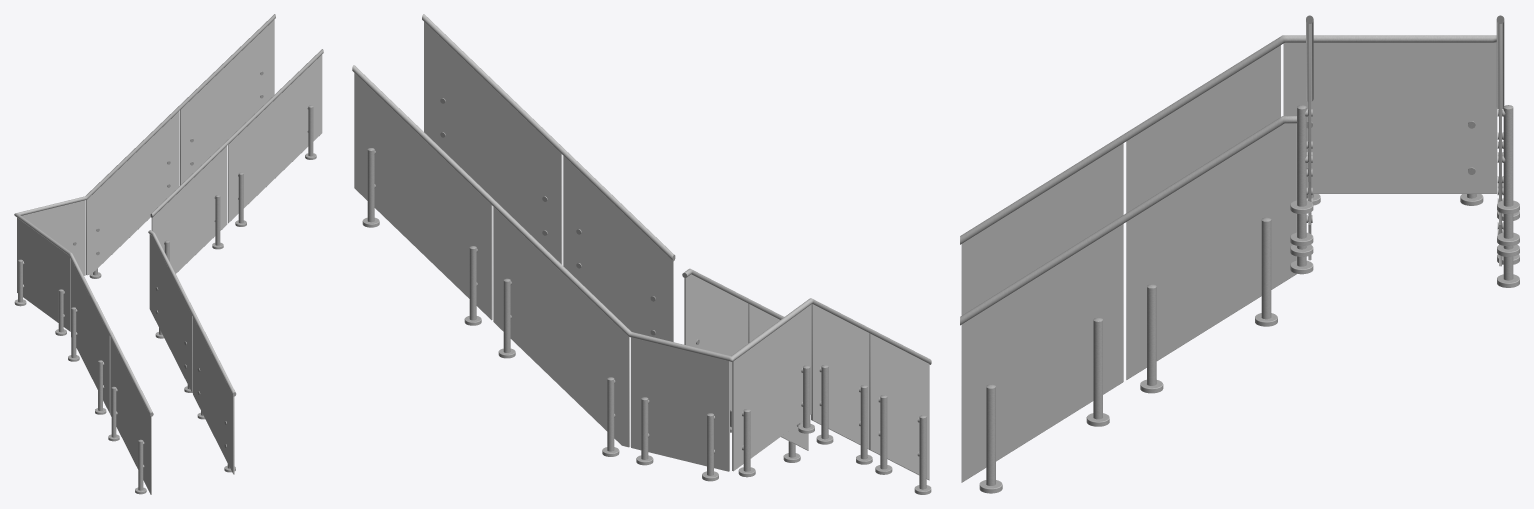
The model's file is L-Shaped_Railing_Lo-Post_Round.gltf.
3 renders of one model, left to right at view 1: azimuth 30°, elevation 25°; view 2: azimuth 150°, elevation 25°; view 3: azimuth 270°, elevation 25°, orthographic. The views are drawn at different scales.
Parts seen in each view (by area): view 1: Casework 1 Casework 1 [8738332], Infill_Glass_Raked & Horizontal Generic [8200579], Infill_Glass_Raked & Horizontal Generic [8736296], Infill_Glass_Raked & Horizontal Generic [8199751], Infill_Glass_Raked & Horizontal Generic [8738822], Infill_Glass_Transition Generic [8202170], Infill_Glass_Raked & Horizontal Generic [8202939], Infill_Glass_Raked & Horizontal Generic [8735940], Infill_Glass_Raked & Horizontal Generic [8739593], Infill_Glass_Raked & Horizontal Generic [8737682], Object, Generic Models 11 Generic Models 11 [8762451]005 (+2 smaller); view 2: Infill_Glass_Raked & Horizontal Generic [8736296], Infill_Glass_Raked & Horizontal Generic [8200579], Casework 1 Casework 1 [8738332], Infill_Glass_Raked & Horizontal Generic [8199751], Infill_Glass_Raked & Horizontal Generic [8737682], Infill_Glass_Raked & Horizontal Generic [8738822], Infill_Glass_Raked & Horizontal Generic [8735940], Infill_Glass_Raked & Horizontal Generic [8739593], Infill_Glass_Transition Generic [8202170], Object, Generic Models 11 Generic Models 11 [8762451]005, Infill_Glass_Raked & Horizontal Generic [8202939] (+1 smaller); view 3: Infill_Glass_Raked & Horizontal Generic [8738822], Infill_Glass_Transition Generic [8202170], Infill_Glass_Raked & Horizontal Generic [8202939], Infill_Glass_Raked & Horizontal Generic [8735940], Infill_Glass_Raked & Horizontal Generic [8739593], LS103 & LS116 - Circum Round Post Material LS Material [9209 (×6), Generic Models 1 Generic Models 1 [8568048], Generic Models 10 Generic Models 1 [8735975], Object, Infill_Glass_Raked & Horizontal Generic [8200579].
Part boxes in pixels (x1,y1,x2,y2): Casework 1 Casework 1 [8738332]: [86, 111, 179, 275]; Infill_Glass_Raked & Horizontal Generic [8200579]: [228, 54, 322, 223]; Infill_Glass_Raked & Horizontal Generic [8736296]: [180, 19, 274, 185]; Infill_Glass_Raked & Horizontal Generic [8199751]: [151, 146, 227, 273]; Infill_Glass_Raked & Horizontal Generic [8738822]: [17, 218, 70, 331]; Infill_Glass_Transition Generic [8202170]: [149, 234, 192, 393]; Infill_Glass_Raked & Horizontal Generic [8202939]: [193, 317, 234, 474]; Infill_Glass_Raked & Horizontal Generic [8735940]: [110, 337, 151, 494]; Infill_Glass_Raked & Horizontal Generic [8739593]: [71, 259, 110, 413]; Infill_Glass_Raked & Horizontal Generic [8737682]: [21, 200, 85, 275]; Object: [14, 14, 275, 254]; Generic Models 11 Generic Models 11 [8762451]005: [150, 49, 323, 217]; Infill_Glass_Raked & Horizontal Generic [8736296]: [354, 73, 492, 320]; Infill_Glass_Raked & Horizontal Generic [8200579]: [424, 22, 562, 264]; Casework 1 Casework 1 [8738332]: [493, 207, 630, 447]; Infill_Glass_Raked & Horizontal Generic [8199751]: [563, 156, 673, 341]; Infill_Glass_Raked & Horizontal Generic [8737682]: [631, 337, 729, 471]; Infill_Glass_Raked & Horizontal Generic [8738822]: [732, 304, 811, 471]; Infill_Glass_Raked & Horizontal Generic [8735940]: [869, 333, 929, 480]; Infill_Glass_Raked & Horizontal Generic [8739593]: [811, 304, 869, 449]; Infill_Glass_Transition Generic [8202170]: [684, 274, 748, 411]; Object: [352, 65, 810, 361]; Generic Models 11 Generic Models 11 [8762451]005: [422, 14, 675, 261]; Infill_Glass_Raked & Horizontal Generic [8202939]: [748, 303, 808, 450]; Infill_Glass_Raked & Horizontal Generic [8738822]: [1283, 42, 1497, 193]; Infill_Glass_Transition Generic [8202170]: [1126, 123, 1296, 379]; Infill_Glass_Raked & Horizontal Generic [8202939]: [961, 224, 1123, 482]; Infill_Glass_Raked & Horizontal Generic [8735940]: [961, 143, 1123, 315]; Infill_Glass_Raked & Horizontal Generic [8739593]: [1126, 45, 1280, 212]; LS103 & LS116 - Circum Round Post Material LS Material [9209 (×6): [986, 108, 1513, 485]; Generic Models 1 Generic Models 1 [8568048]: [960, 116, 1296, 325]; Generic Models 10 Generic Models 1 [8735975]: [960, 35, 1290, 244]; Object: [1291, 15, 1504, 108]; Infill_Glass_Raked & Horizontal Generic [8200579]: [1308, 24, 1311, 225].
Size of the model in its own units: 3.06 by 3.51 by 2.78.
